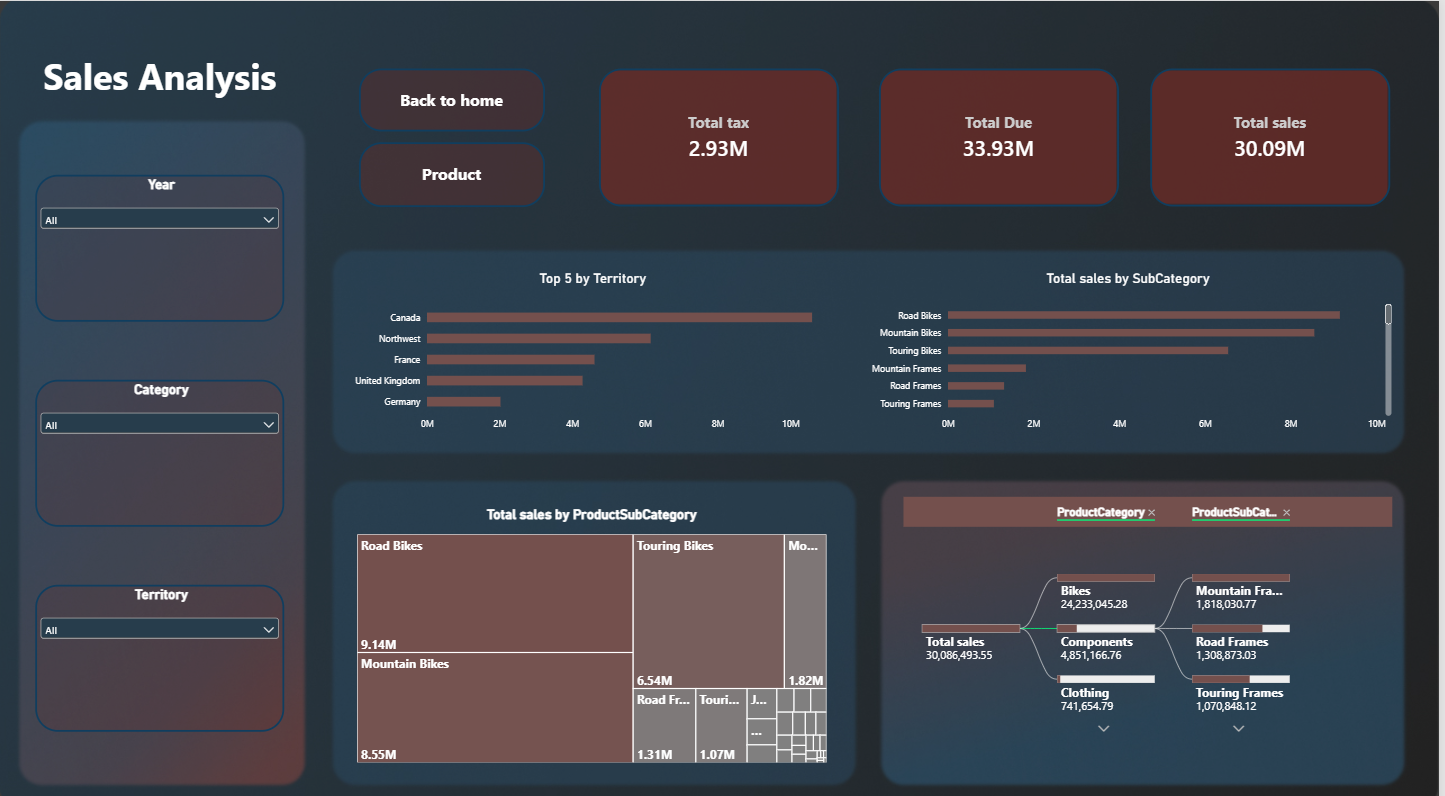

Layout of this report page (visuals, bound fields, positions):
{"tool":"powerbi","page":{"name":"Sales","canvas":[1920,1080],"ordinal":4},"visuals":[{"type":"cardVisual","fields":{"Data":["DAX.Total Due"]},"box":[1173.8,90.7,320,184],"z":0},{"type":"cardVisual","fields":{"Data":["DAX.Total sales"]},"box":[1534.9,90.7,320,184],"z":1000},{"type":"cardVisual","fields":{"Data":["DAX.Total tax"]},"box":[800.6,90.7,320,184],"z":2000},{"type":"treemap","fields":{"Group":["product_dim.ProductSubCategory"],"Values":["DAX.Total sales"]},"box":[462.2,659.3,657.6,371.5],"z":3000},{"type":"decompositionTreeVisual","fields":{"ExplainBy":["product_dim.Product Hierarchy.ProductCategory","product_dim.Product Hierarchy.ProductSubCategory"],"Analyze":["DAX.Total sales"]},"box":[1189.5,647.1,683.7,383.7],"z":4000},{"type":"actionButton","box":[479.7,90.7,248,84],"z":5000},{"type":"actionButton","box":[480,188,248,86],"z":6000},{"type":"barChart","title":"Top 5 by Territory","fields":{"Y":["DAX.Total sales"],"Category":["Territory_dim.Territory"]},"box":[451.7,345.3,680.2,247.7],"z":7000},{"type":"barChart","title":"Total sales by SubCategory","fields":{"Category":["product_dim.Product Hierarchy.ProductSubCategory"],"Y":["DAX.Total sales"]},"box":[1139,345.3,734.3,247.7],"z":8000},{"type":"slicer","title":"Year","fields":{"Values":["order_datedim.Date.Variation.Date Hierarchy.Year"]},"box":[48,232,332,196],"z":9000},{"type":"textbox","box":[48,66,332,108],"z":10000},{"type":"slicer","title":"Category","fields":{"Values":["product_dim.Product Hierarchy.ProductCategory"]},"box":[48,505,332,196],"z":11000},{"type":"slicer","title":"Territory","fields":{"Values":["Territory_dim.Territory"]},"box":[48,778,332,196],"z":12000}]}

Visuals, with their boxes in screenshot pixels (x1, y1, x2, y2), scaled from the page's 1920x1080 canvas onto the 1445x796 screenshot:
cardVisual - DAX.Total Due: rect(883, 67, 1124, 202)
cardVisual - DAX.Total sales: rect(1155, 67, 1396, 202)
cardVisual - DAX.Total tax: rect(603, 67, 843, 202)
treemap - product_dim.ProductSubCategory x DAX.Total sales: rect(348, 486, 843, 760)
decompositionTreeVisual - product_dim.Product Hierarchy.ProductCategory x product_dim.Product Hierarchy.ProductSubCategory: rect(895, 477, 1410, 760)
actionButton: rect(361, 67, 548, 129)
actionButton: rect(361, 139, 548, 202)
"Top 5 by Territory" barChart: rect(340, 254, 852, 437)
"Total sales by SubCategory" barChart: rect(857, 254, 1410, 437)
"Year" slicer: rect(36, 171, 286, 315)
textbox: rect(36, 49, 286, 128)
"Category" slicer: rect(36, 372, 286, 517)
"Territory" slicer: rect(36, 573, 286, 718)
